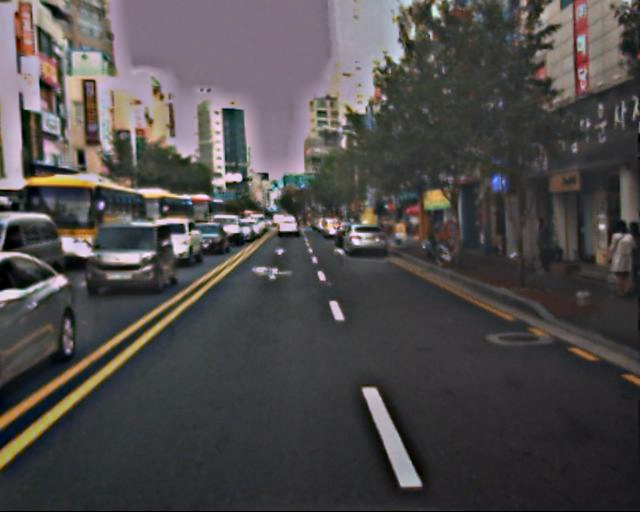person: (602, 218, 637, 304), (532, 217, 556, 275), (490, 213, 511, 264)
